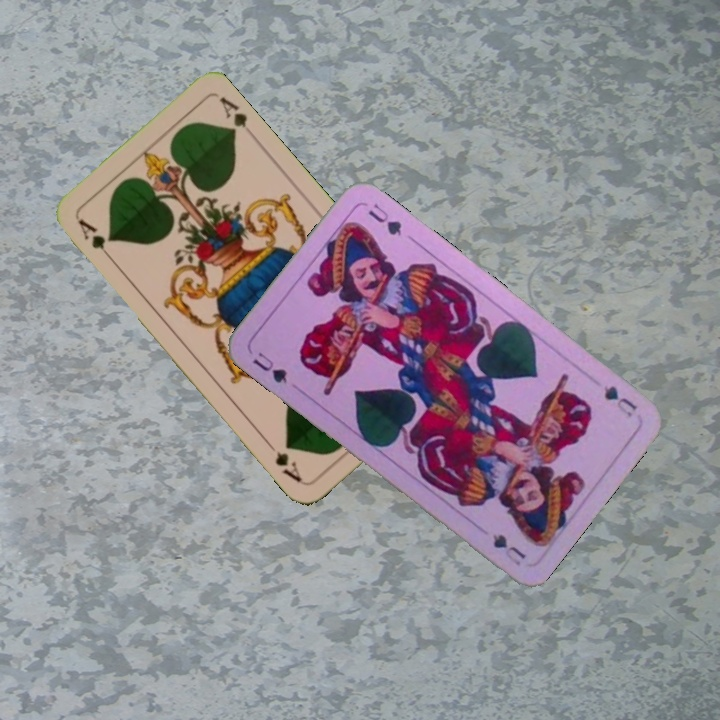GA: (74, 215, 115, 263)
GU: (599, 381, 640, 420), (248, 348, 290, 386)
